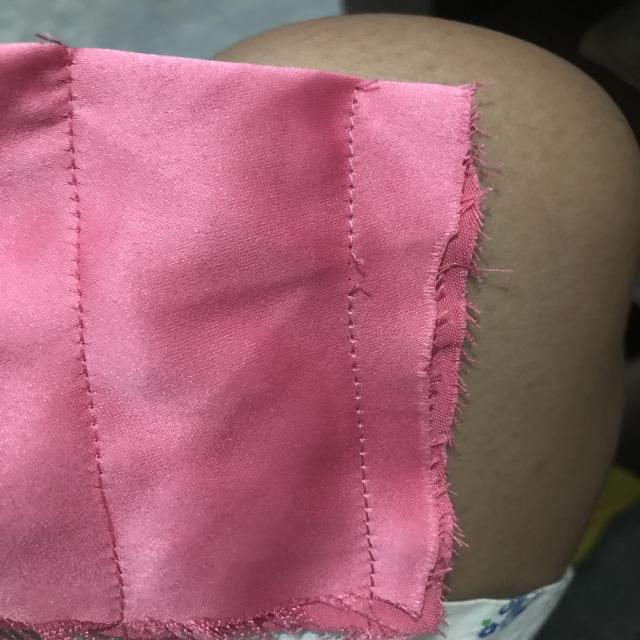broken: (319, 233, 391, 315)
good: (337, 358, 399, 537)
